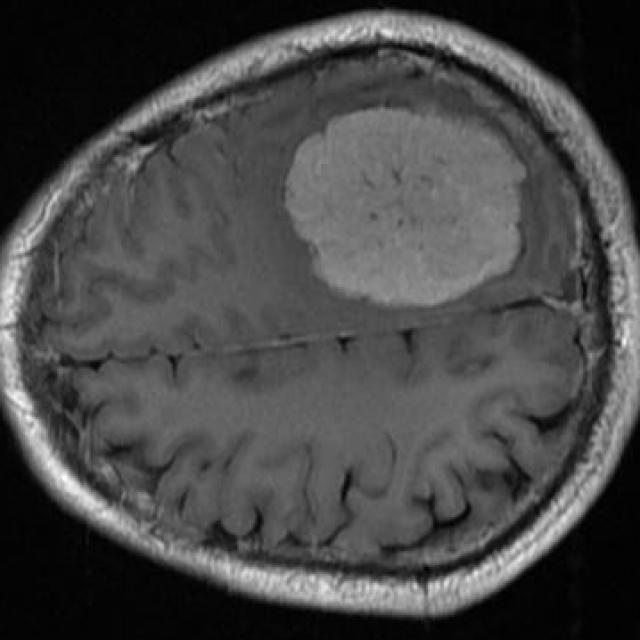meningioma: (283, 109, 526, 308)
